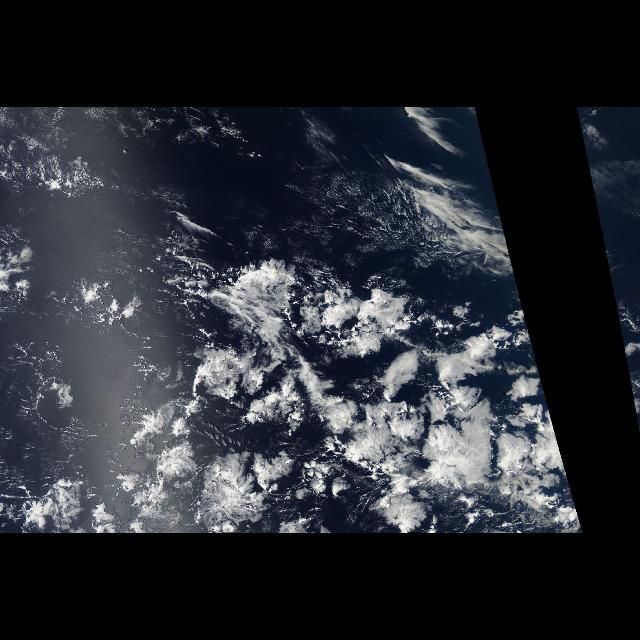Fish: (157, 251, 376, 371), (393, 112, 519, 304)
Flower: (139, 249, 577, 533)
Sugar: (108, 112, 386, 240)
